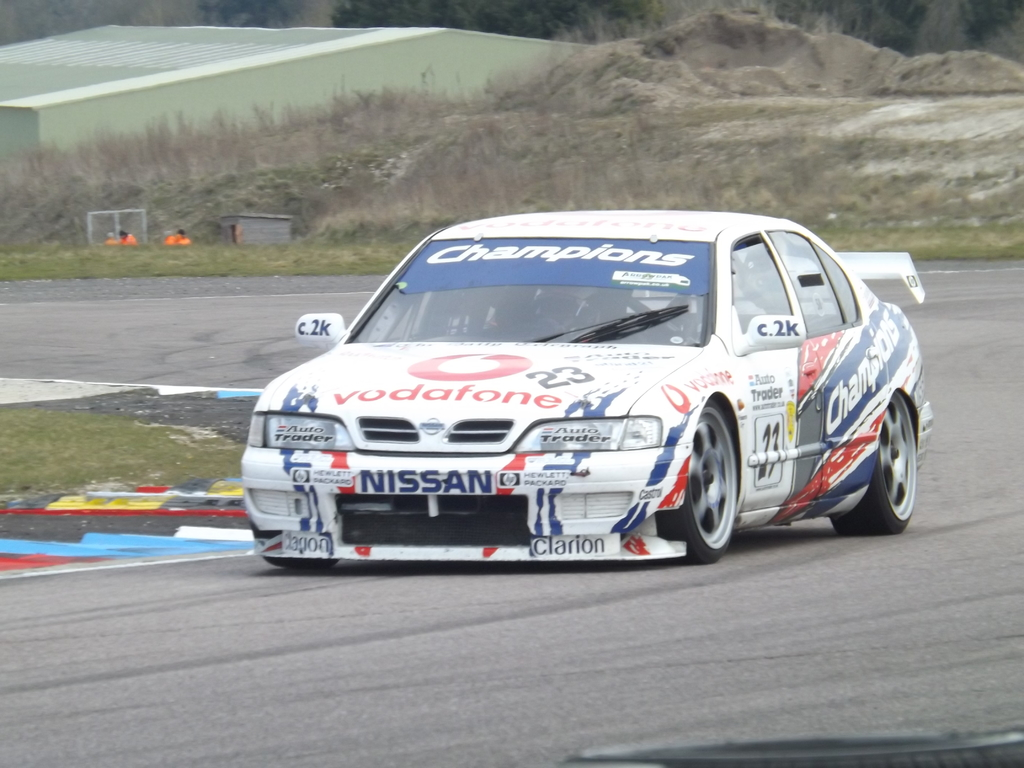Car: (220, 215, 917, 585)
